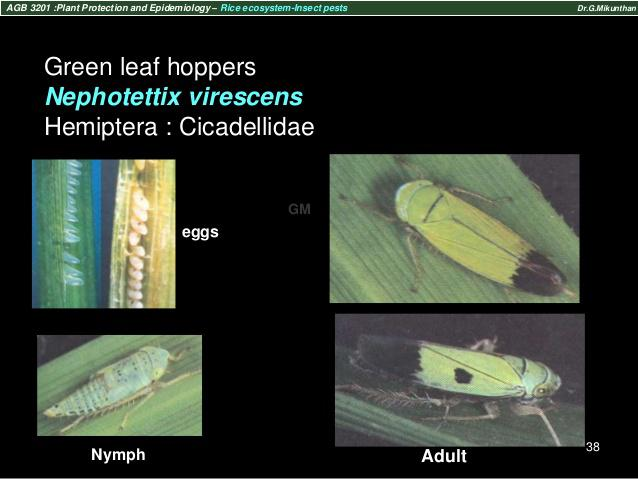pest: (392, 177, 567, 296), (347, 330, 566, 409), (42, 346, 171, 419), (63, 158, 87, 289), (129, 183, 145, 307)
